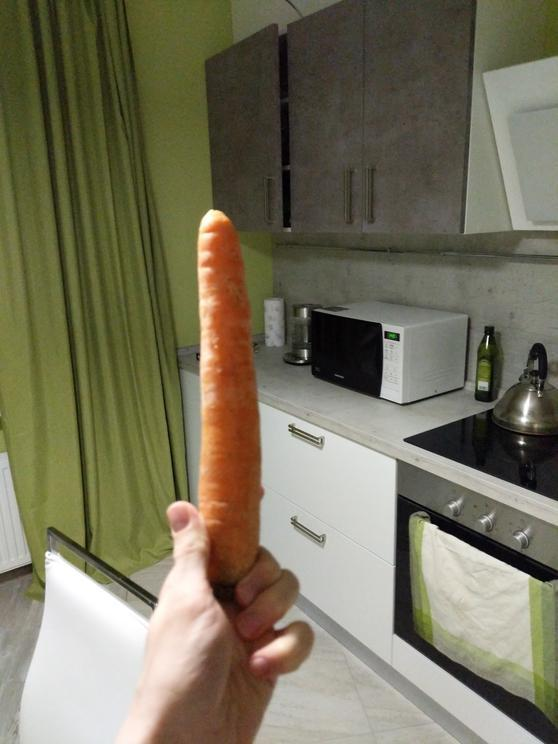carrot: (164, 204, 288, 587)
